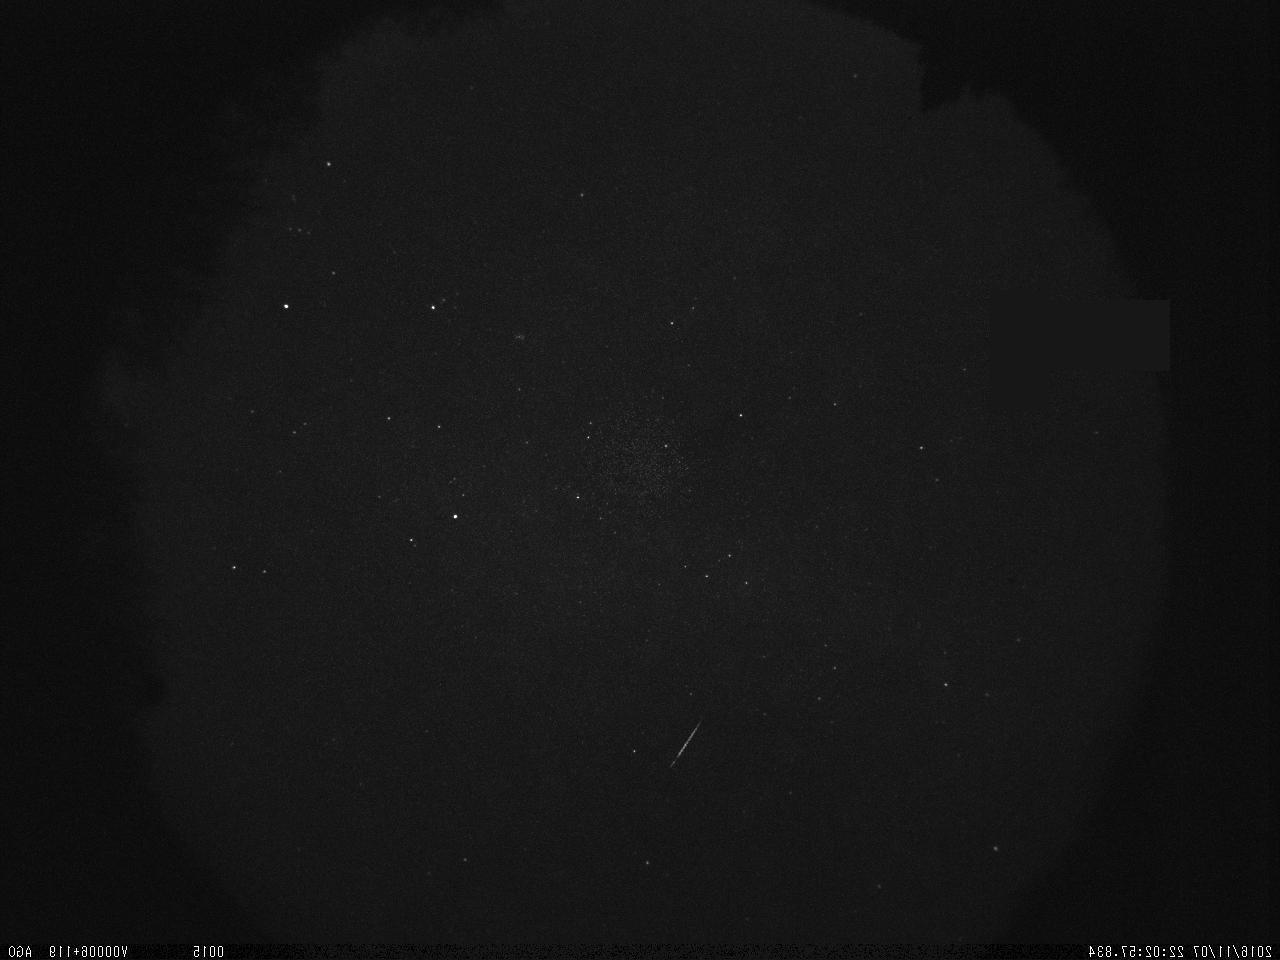meteor: (659, 710, 715, 773)
